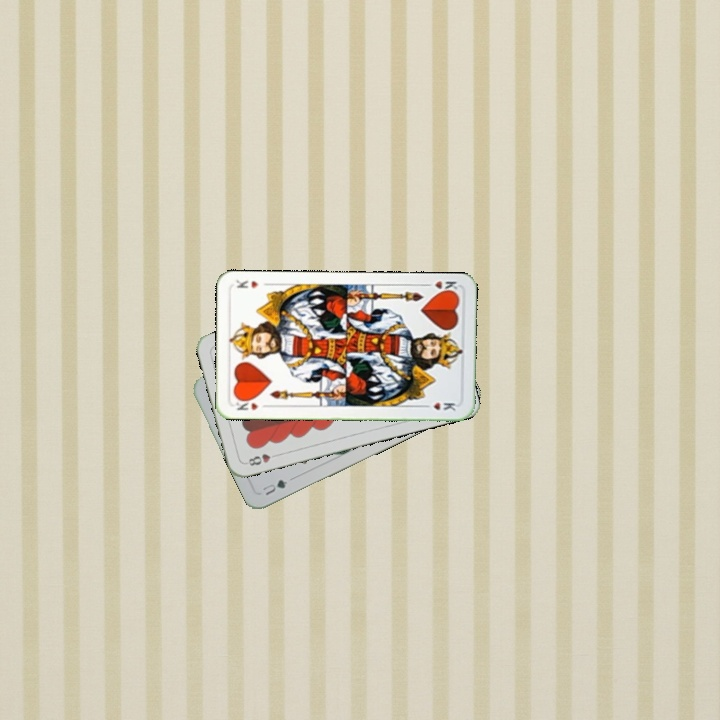GU: (258, 475, 290, 498)
H8: (242, 449, 282, 468)
HK: (420, 277, 460, 296), (231, 395, 271, 413)
